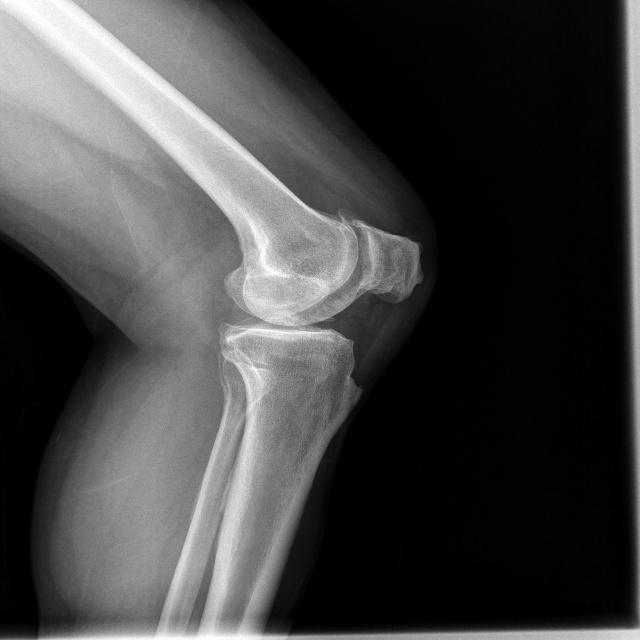Knee: (213, 214, 422, 393)
